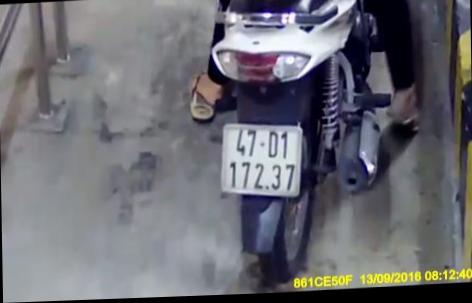LP: (218, 118, 304, 203)
